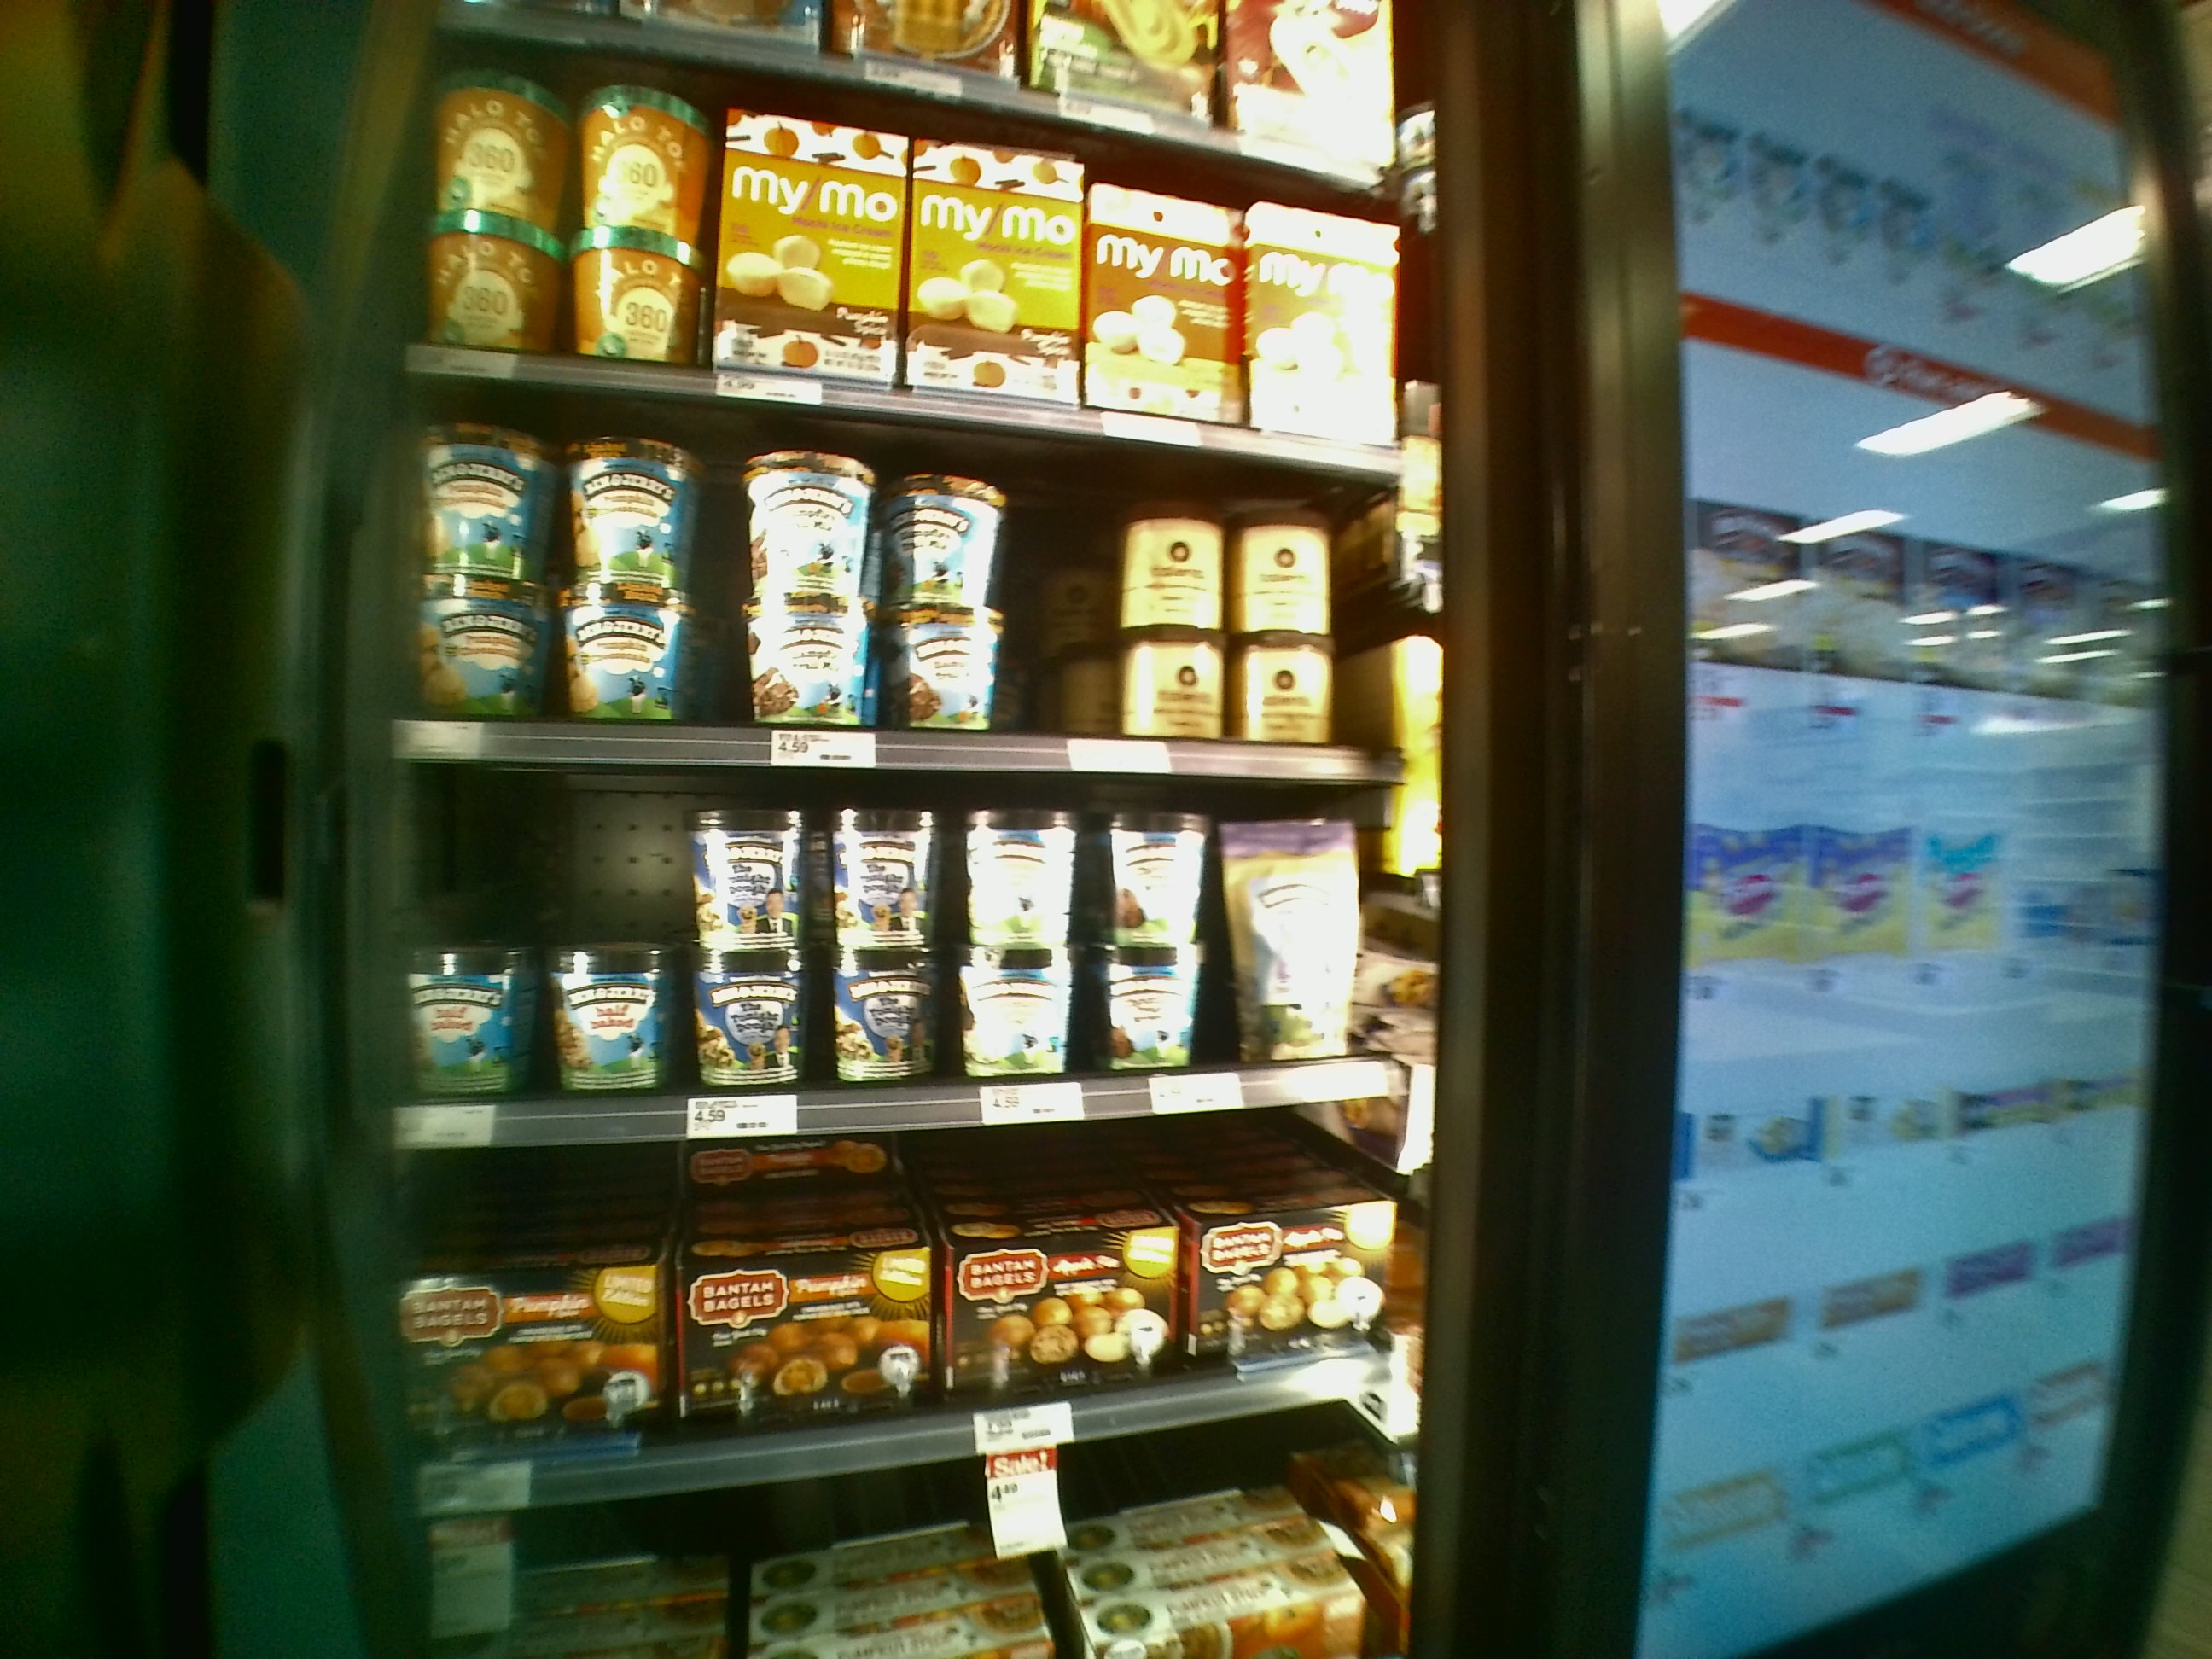shelf: (359, 369, 1411, 798), (354, 763, 1432, 1094), (340, 1105, 1418, 1417)
